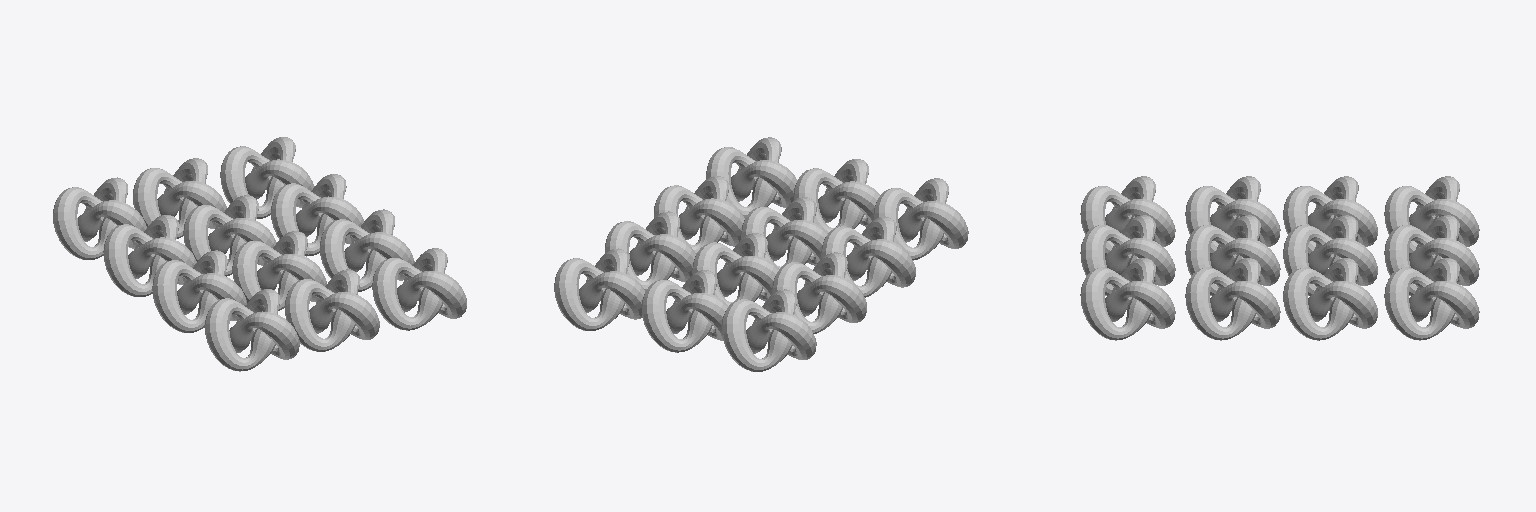
The picture shows the model from 3 angles: view 1: azimuth 30°, elevation 25°; view 2: azimuth 150°, elevation 25°; view 3: azimuth 270°, elevation 25°; orthographic projection.
Parts seen in each view (by area): view 1: Torus_Knot001; view 2: Torus_Knot001; view 3: Torus_Knot001.
Part boxes in pixels (x1,y1,x2,y2): Torus_Knot001: (53,137,466,371); Torus_Knot001: (554,137,968,371); Torus_Knot001: (1080,176,1479,340).
Size of the model in its own units: 373 by 84.77 by 525.